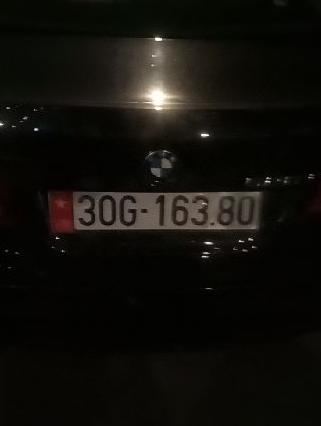Plate-iWeP: (72, 191, 260, 227)
